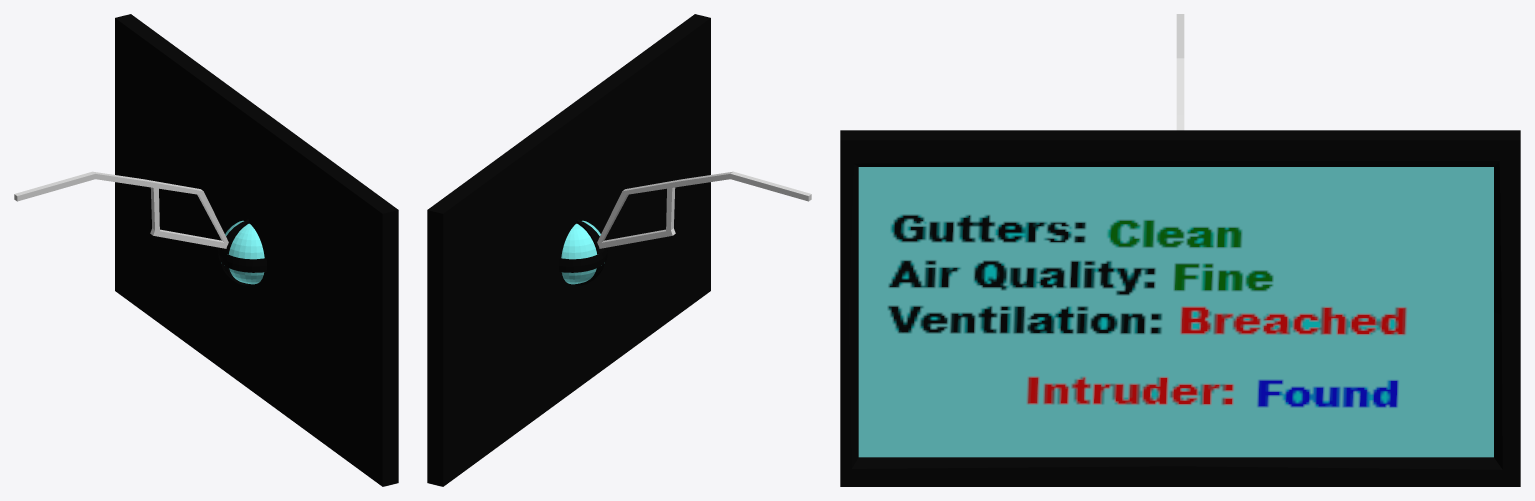
The model's file is Television.fbx.
3 renders of one model, left to right at view 1: azimuth 30°, elevation 25°; view 2: azimuth 150°, elevation 25°; view 3: azimuth 270°, elevation 25°, orthographic. The views are drawn at different scales.
Visible parts, largest first — view 1: Cube, Cube.001, Sphere; view 2: Cube, Cube.001, Sphere; view 3: Cube, Cube.001.
Boxes of the visible parts, left/top/right/bottom form: Cube: left=115, top=14, right=398, bottom=486; Cube.001: left=14, top=171, right=228, bottom=248; Sphere: left=218, top=219, right=266, bottom=285; Cube: left=427, top=14, right=710, bottom=486; Cube.001: left=597, top=171, right=811, bottom=248; Sphere: left=559, top=219, right=607, bottom=285; Cube: left=840, top=130, right=1520, bottom=486; Cube.001: left=1176, top=14, right=1184, bottom=130.
Size of the model in its own units: 355 by 371 by 660.
Materials: 2 (2 with a texture image).
